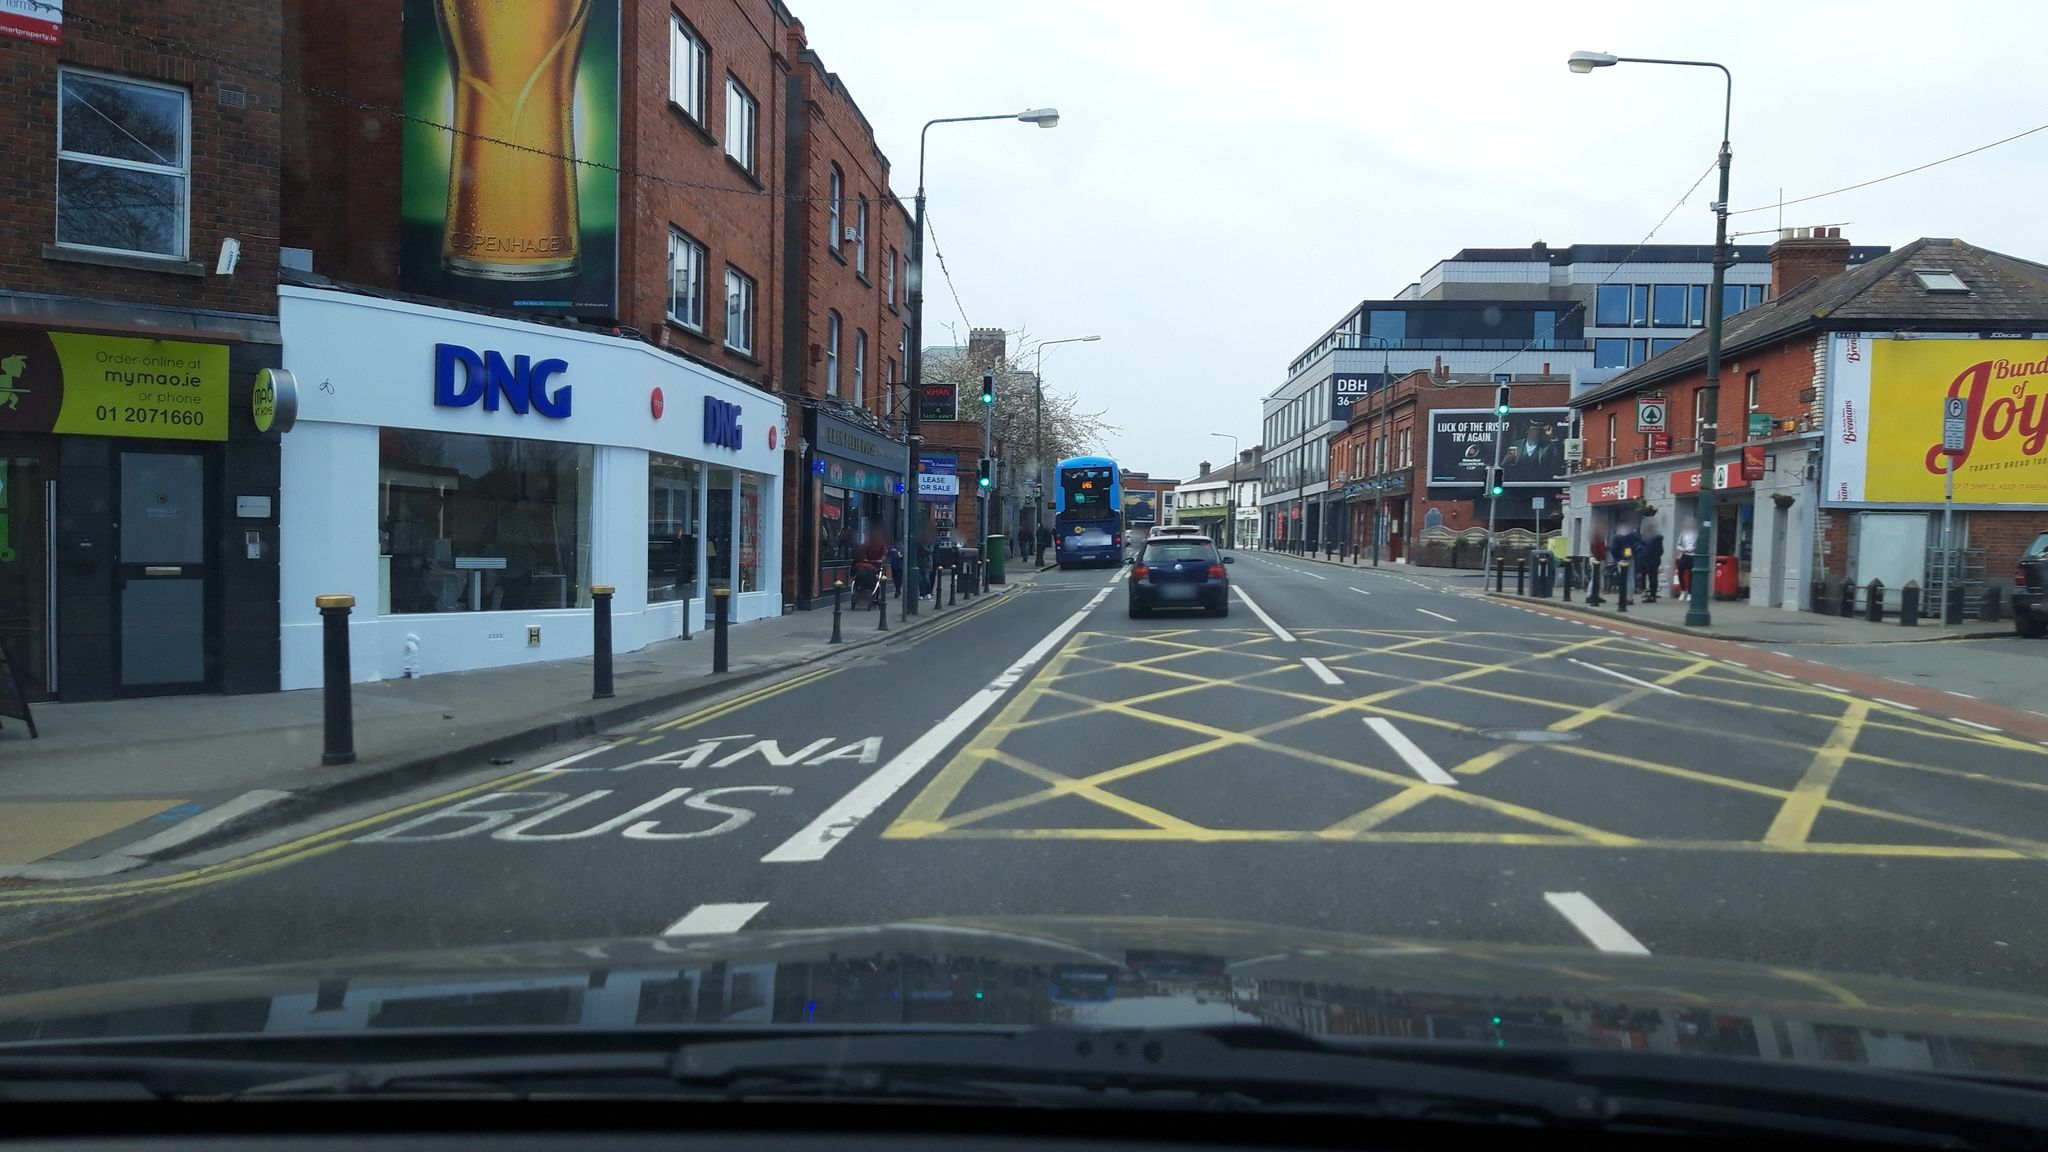property sign: (909, 443, 973, 509)
